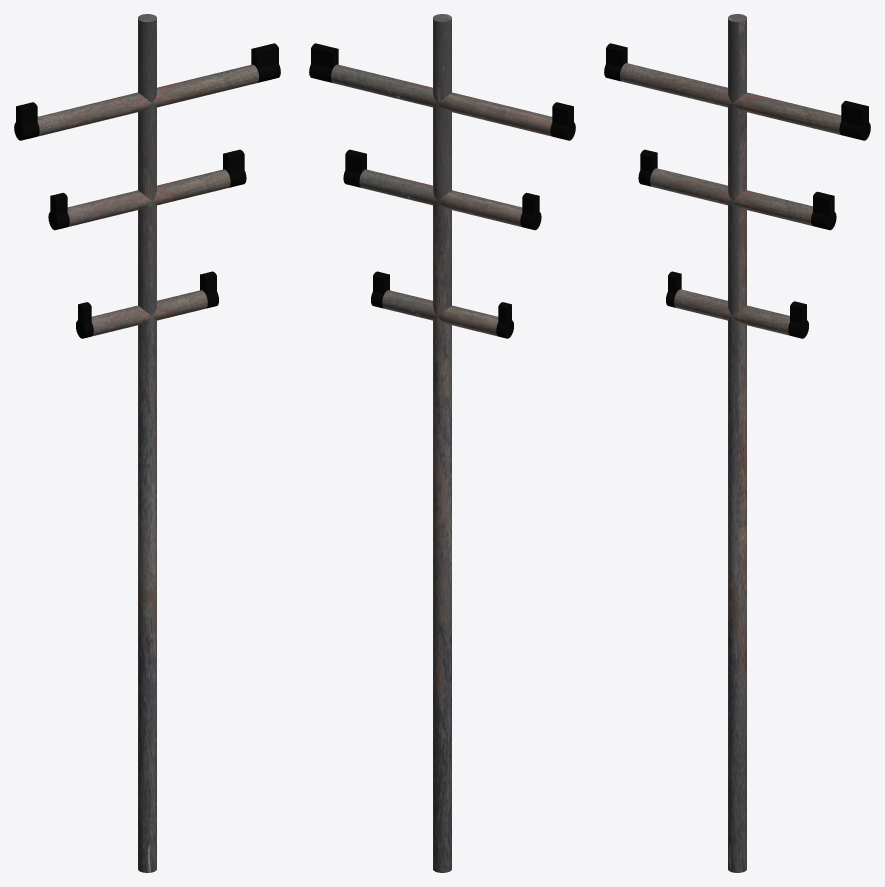
The model's file is Power Cable.fbx.
3 renders of one model, left to right at view 1: azimuth 30°, elevation 25°; view 2: azimuth 150°, elevation 25°; view 3: azimuth 330°, elevation 25°, orthographic.
Visible parts, largest first — view 1: pCylinder15, pCylinder14, pCylinder12, pCylinder13; view 2: pCylinder15, pCylinder14, pCylinder12, pCylinder13; view 3: pCylinder15, pCylinder14, pCylinder12, pCylinder13.
Boxes of the visible parts, bbox=[...] form: pCylinder15: bbox=[138, 14, 156, 872]; pCylinder14: bbox=[14, 43, 280, 140]; pCylinder12: bbox=[48, 149, 246, 230]; pCylinder13: bbox=[76, 271, 218, 338]; pCylinder15: bbox=[433, 14, 451, 872]; pCylinder14: bbox=[309, 43, 575, 140]; pCylinder12: bbox=[343, 149, 541, 230]; pCylinder13: bbox=[371, 271, 513, 338]; pCylinder15: bbox=[728, 14, 746, 872]; pCylinder14: bbox=[604, 43, 870, 140]; pCylinder12: bbox=[638, 149, 836, 230]; pCylinder13: bbox=[666, 271, 808, 338].
Bounding box in the file's own units: 13.36 × 42.25 × 0.8741.
